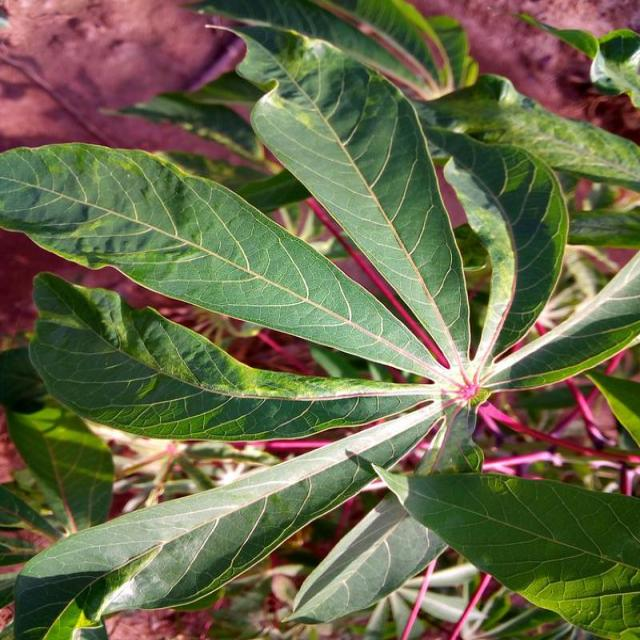cassava leaf: (1, 1, 638, 637), (0, 140, 451, 381), (371, 461, 638, 638)
